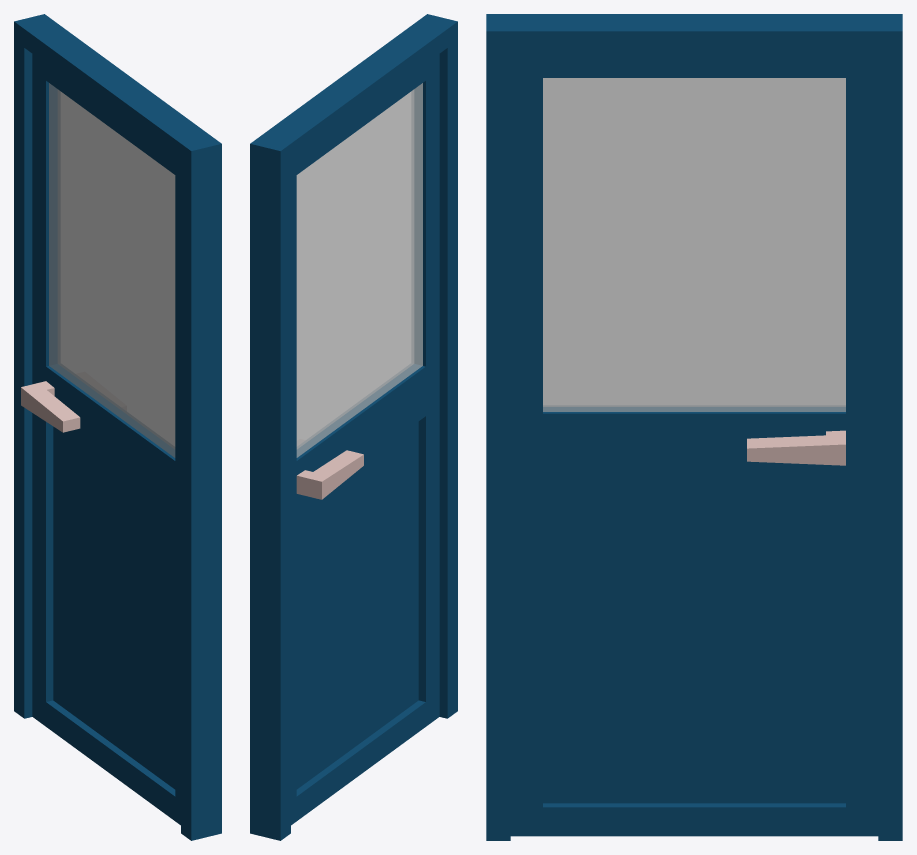
Rendered from Porta.fbx.
3 renders of one model, left to right at view 1: azimuth 30°, elevation 25°; view 2: azimuth 150°, elevation 25°; view 3: azimuth 270°, elevation 25°, orthographic. The views are drawn at different scales.
Parts seen in each view (by area): view 1: Cubo.016; view 2: Cubo.016; view 3: Cubo.016.
Part boxes in pixels (<box>): Cubo.016: <box>14,14,221,840</box>; Cubo.016: <box>250,14,457,840</box>; Cubo.016: <box>486,14,902,840</box>.
Bounding box in the file's own units: 63.87 × 657 × 306.
